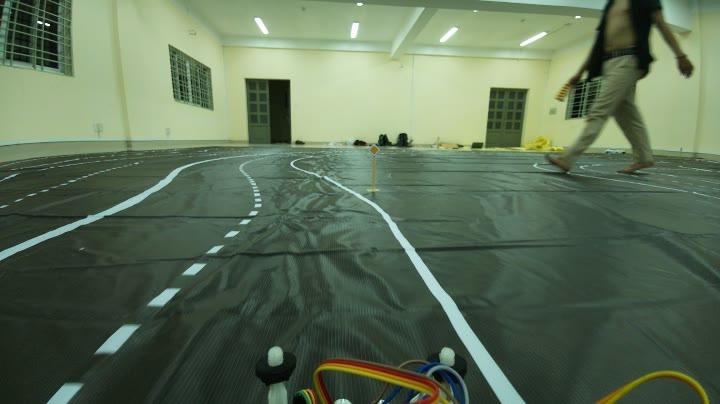priority: (368, 140, 381, 158)
